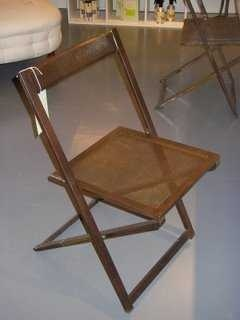obstacle: (14, 28, 219, 311)
